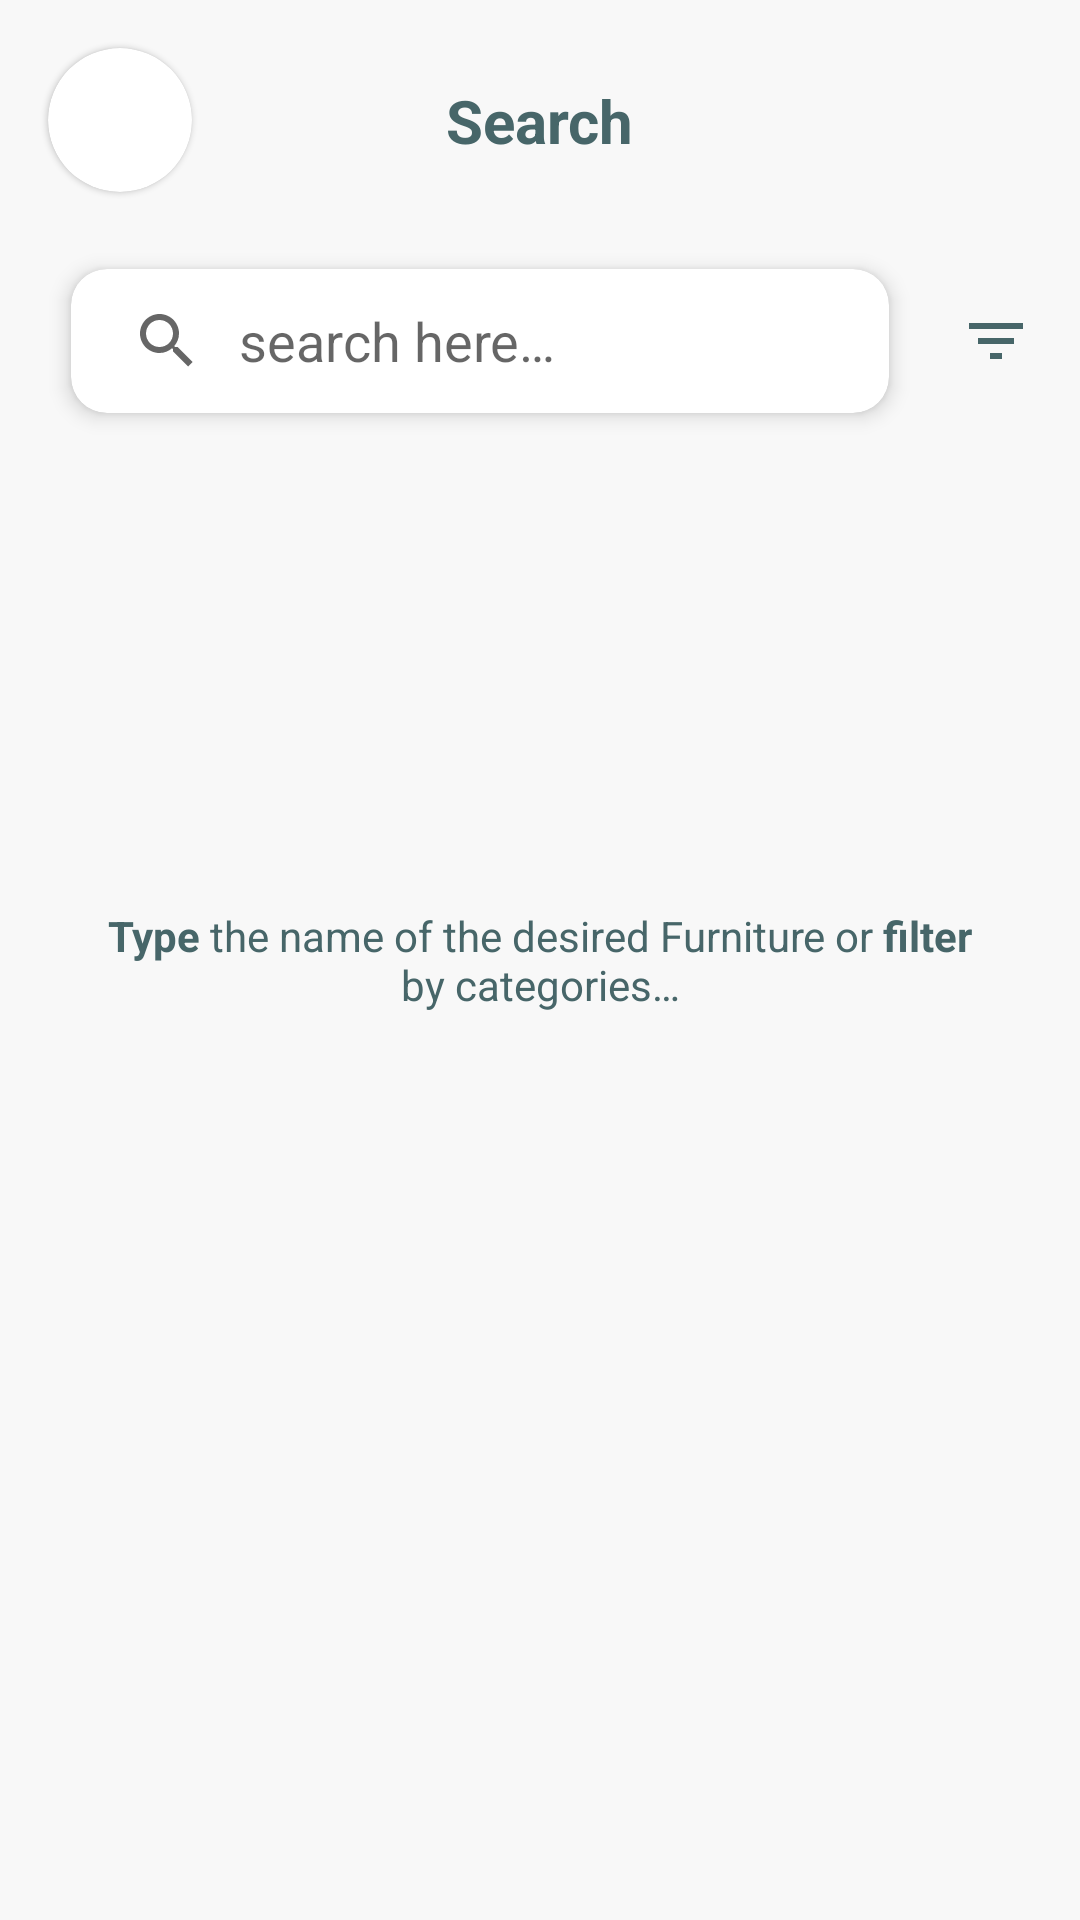

Icon bounding boxes for this 1080 × 1920 phone screenshot, format (x1, y1, x2, y2):
Filter Button: (969, 323, 1023, 359)
